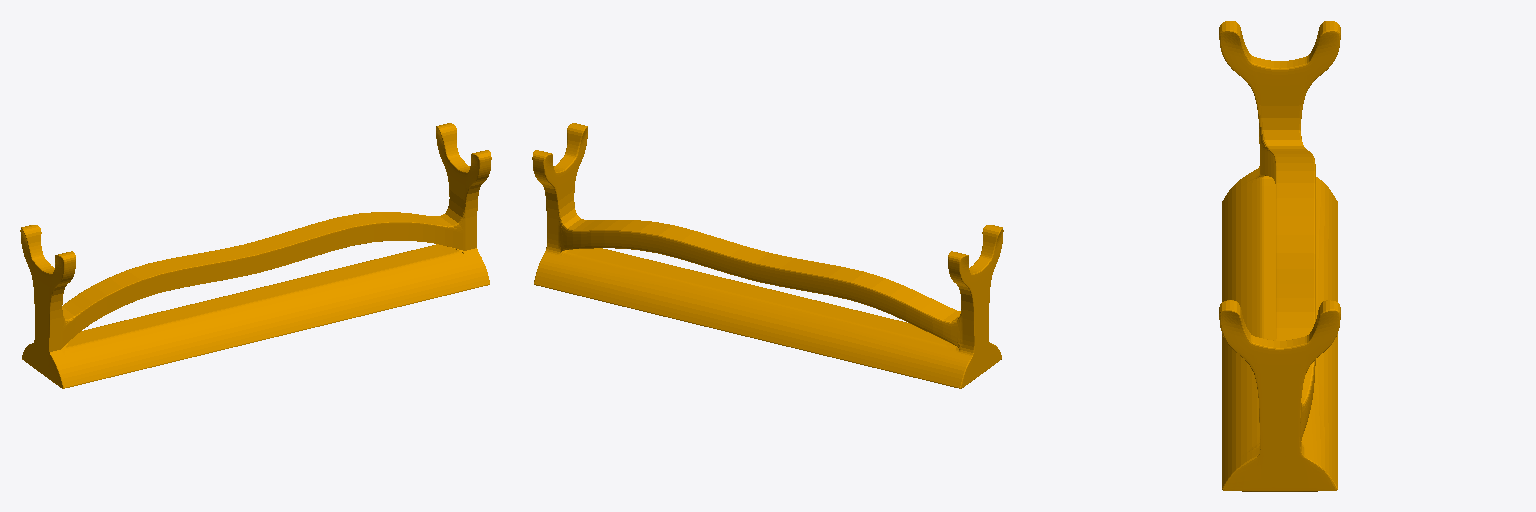
The robot description file, URDF, robot "holder":
<robot name="holder">
  <link name="holder">
    <visual>
      <geometry>
        <mesh filename="holder.stl" />
      </geometry>
    </visual>
    <collision>
      <geometry>
        <mesh filename="holder.stl" />
      </geometry>
    </collision>
  </link>
</robot>

--- What the picture shows (computed from the rendered views, not written in the file) ---
3 views of the same robot in one strip: view 1: azimuth 30°, elevation 25°; view 2: azimuth 150°, elevation 25°; view 3: azimuth 270°, elevation 25° (orthographic).
Model holder with 1 links and 0 joints (none), rooted at holder, posed every joint at zero.
Links seen in each view (by area): view 1: holder; view 2: holder; view 3: holder.
Link boxes in pixels (x1,y1,x2,y2): holder: (20, 123, 491, 388); holder: (532, 123, 1003, 388); holder: (1219, 21, 1340, 491).
Bounding box of the posed robot: 0.1444 × 0.0255 × 0.0423 m (x, y, z).
1 mesh visuals loaded from 1 distinct referenced files (1 binary STL).